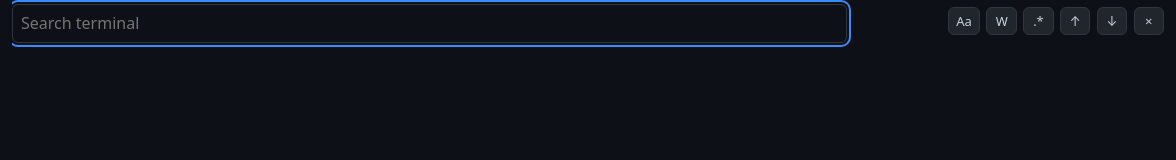
TerminalSearchBar › reports a bad regular expression instead of throwing
Click the button named "Regular expression" at (1038, 21), box [1023, 8, 1054, 35]
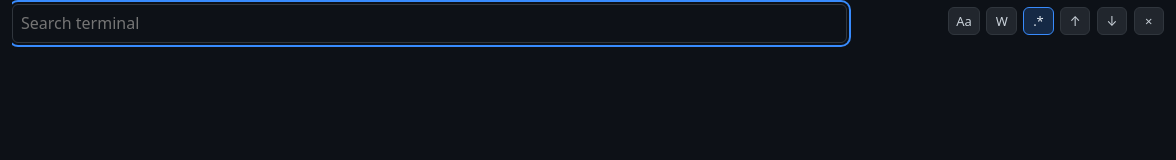
Type "(" into the search field labelled "Search terminal" at (430, 23), box [12, 4, 847, 43]
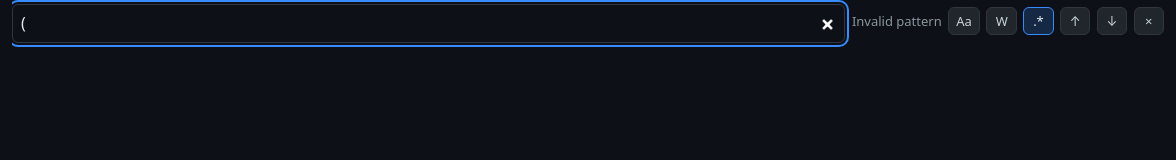
Expected: the text "Invalid pattern" is shown, [852, 12, 942, 31]
